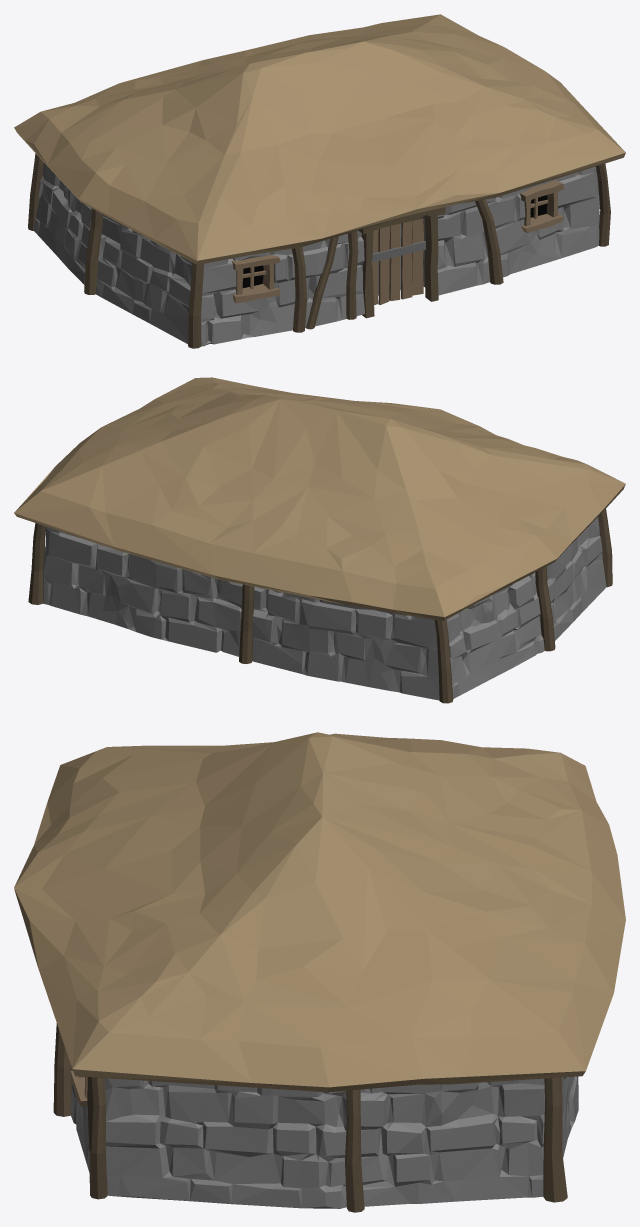
The model's file is village_stone_house_k.FBX.
3 renders of one model, top to bottom at view 1: azimuth 30°, elevation 25°; view 2: azimuth 150°, elevation 25°; view 3: azimuth 270°, elevation 25°, orthographic. The views are drawn at different scales.
Parts seen in each view (by area): view 1: village_stone_house_k; view 2: village_stone_house_k; view 3: village_stone_house_k.
Boxes of the visible parts, bbox=[...] form: village_stone_house_k: bbox=[14, 14, 625, 348]; village_stone_house_k: bbox=[14, 377, 625, 703]; village_stone_house_k: bbox=[14, 732, 625, 1212].
Size of the model in its own units: 10.13 by 3.84 by 7.77.
